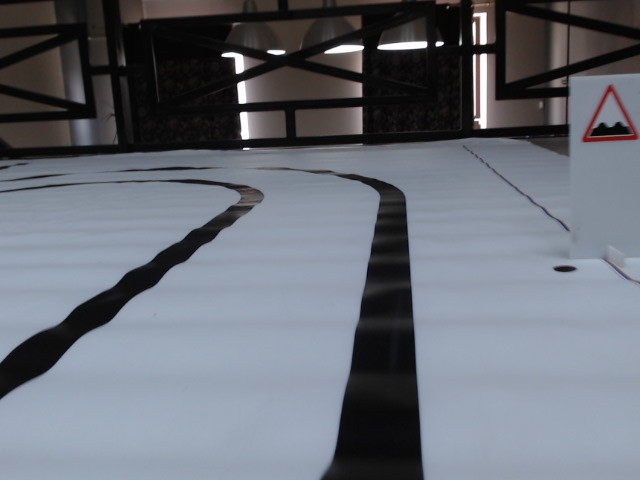Nerov: (579, 83, 639, 143)
